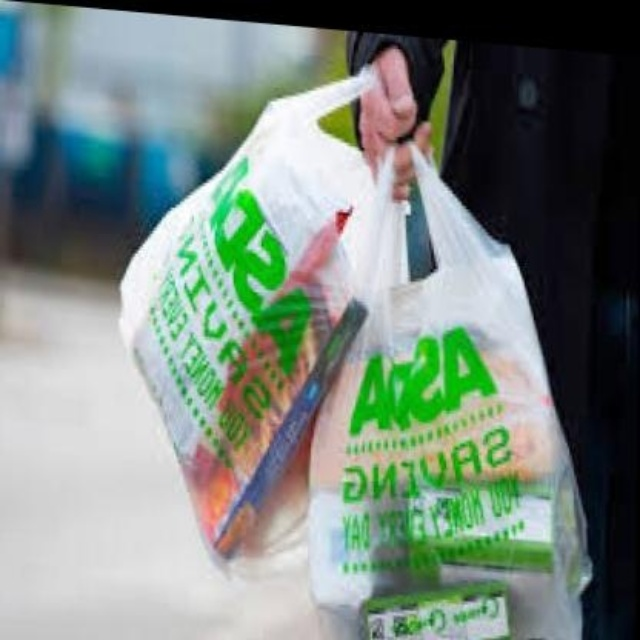trash: (309, 155, 588, 638), (120, 69, 375, 551), (363, 582, 509, 638)
